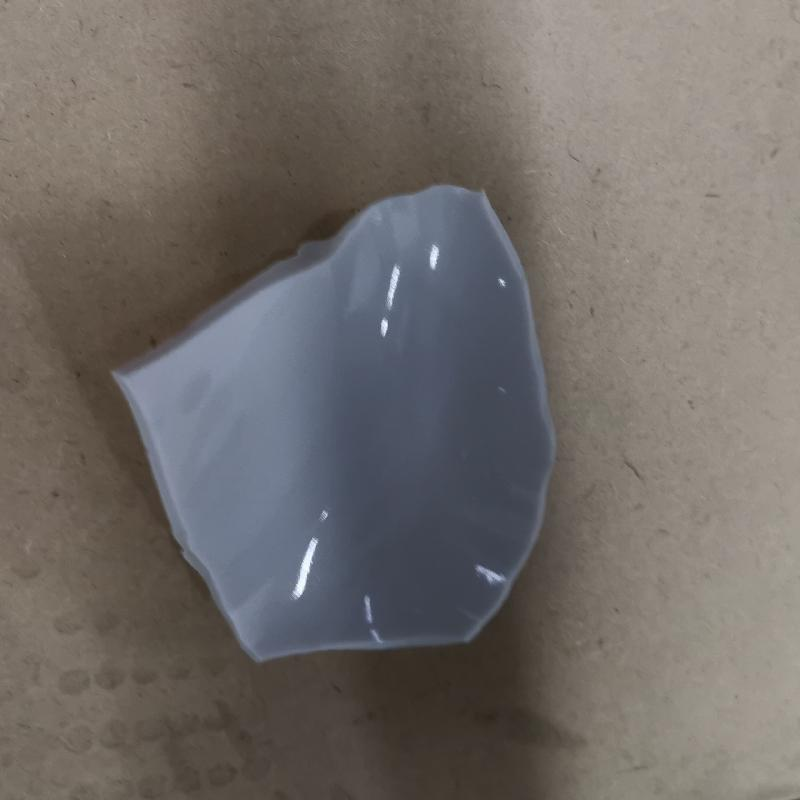ceram: (71, 179, 561, 667)
